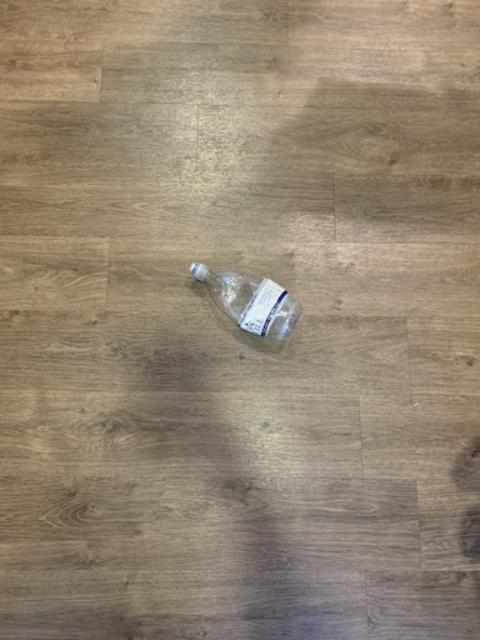plastic: (189, 261, 300, 338)
